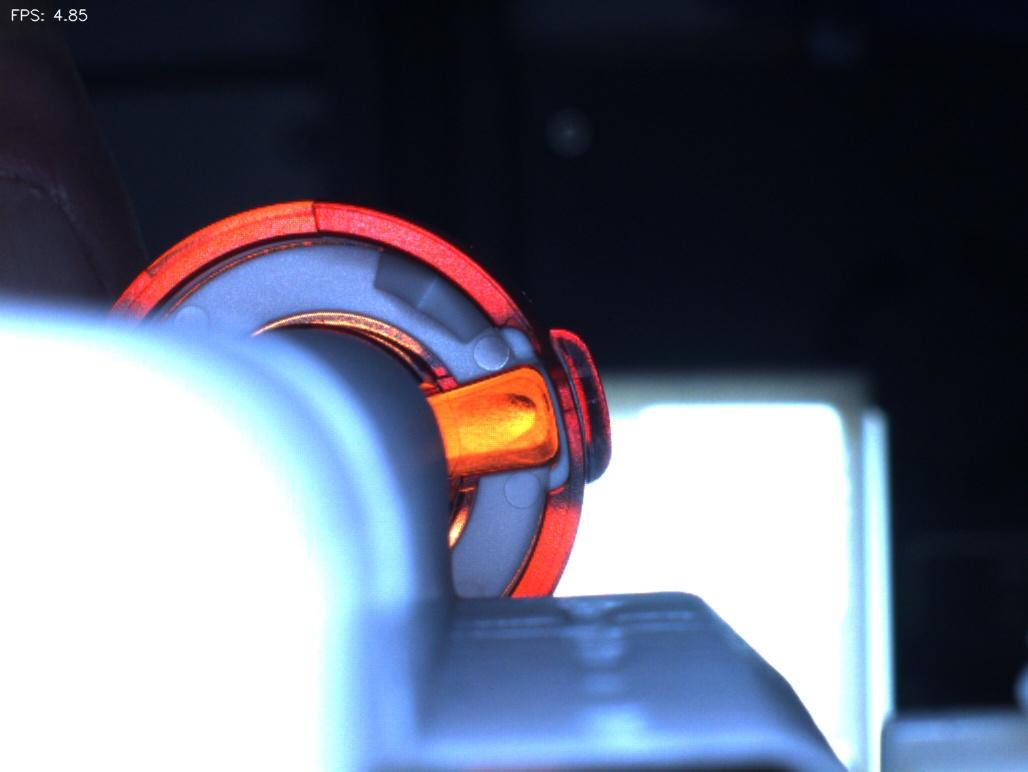Retassure: (447, 382, 544, 461)
